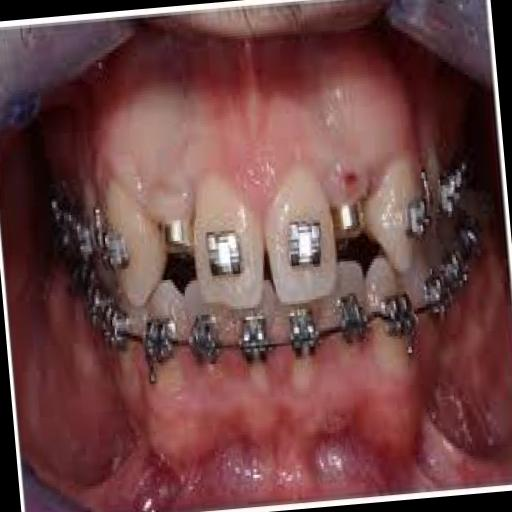correct_brace: (202, 213, 252, 296), (280, 209, 326, 278), (96, 212, 130, 286), (400, 186, 434, 242)
incorrect_brace: (96, 158, 180, 318), (356, 150, 436, 277)
